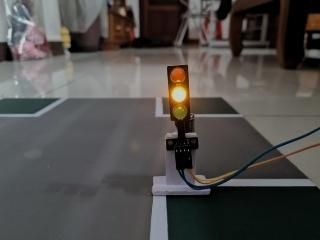yellow: (159, 54, 205, 133)
